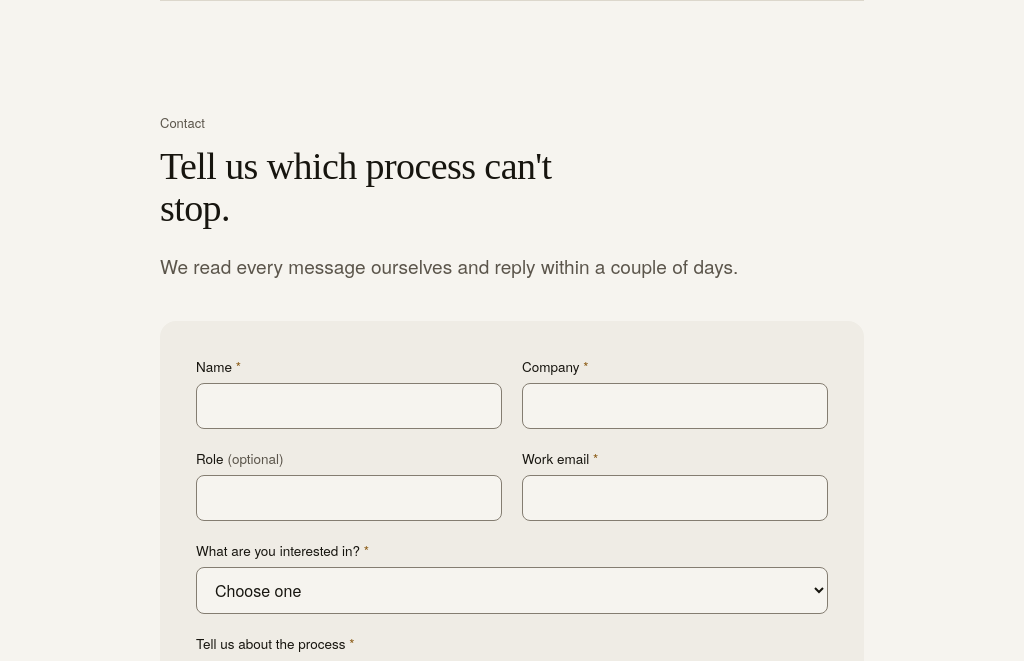
it: Contact form delivery › does NOT claim success when the reply is 200 with success:"false"
Step 1. Type "Ada" into the field labelled "Name *" → (349, 406), box [196,383,502,429]
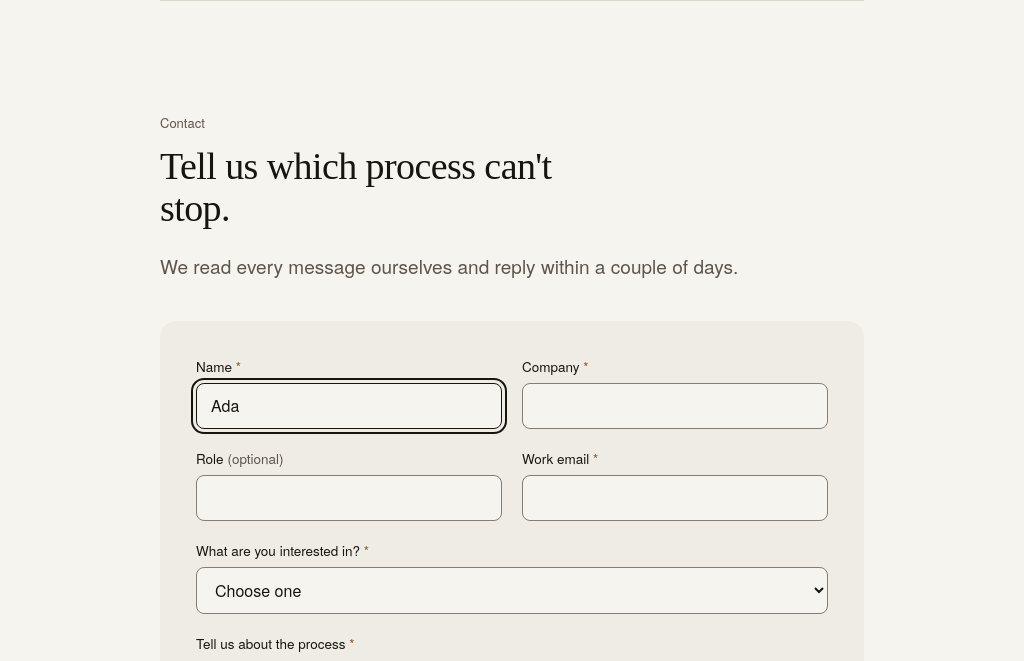
Step 2. Type "Analytical Engines" into the field labelled "Company *" → (675, 406), box [522,383,828,429]
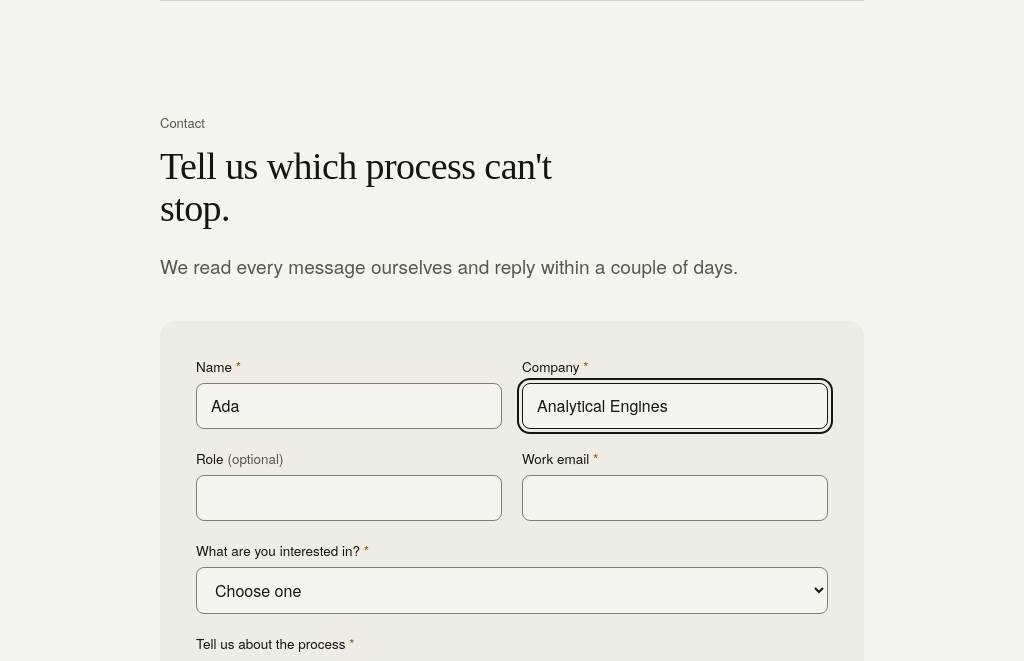
Step 3. Type "ada@example.com" into the field labelled "Work email *" → (675, 498), box [522,475,828,521]
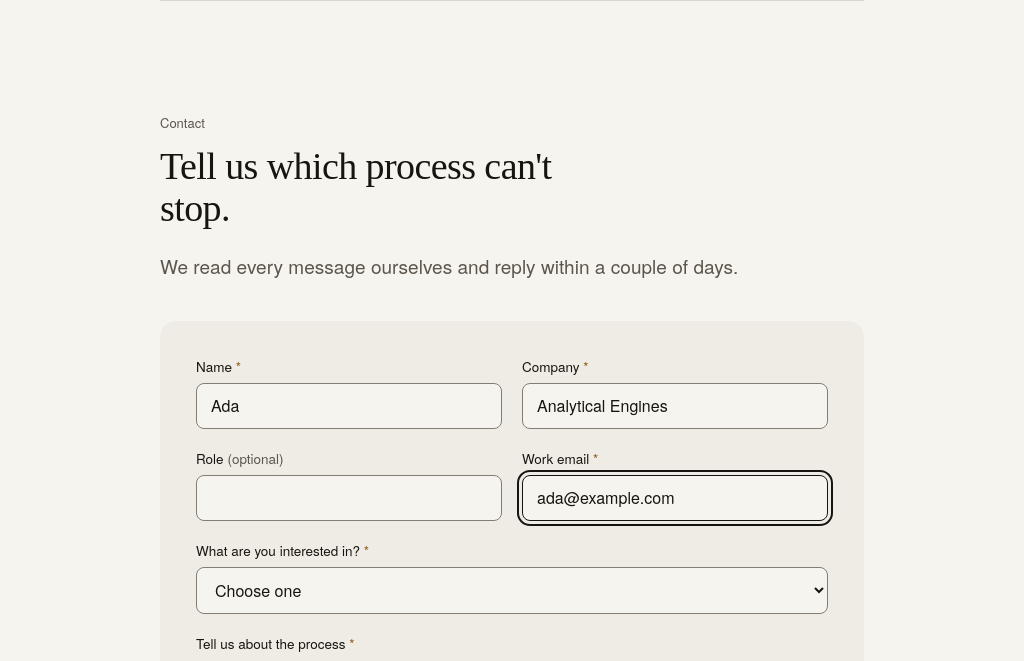
Step 4. Select "Building an automation or AI agent" in the dropdown labelled "What are you interested in?" → (512, 591), box [196,567,828,614]
(page scrolled)
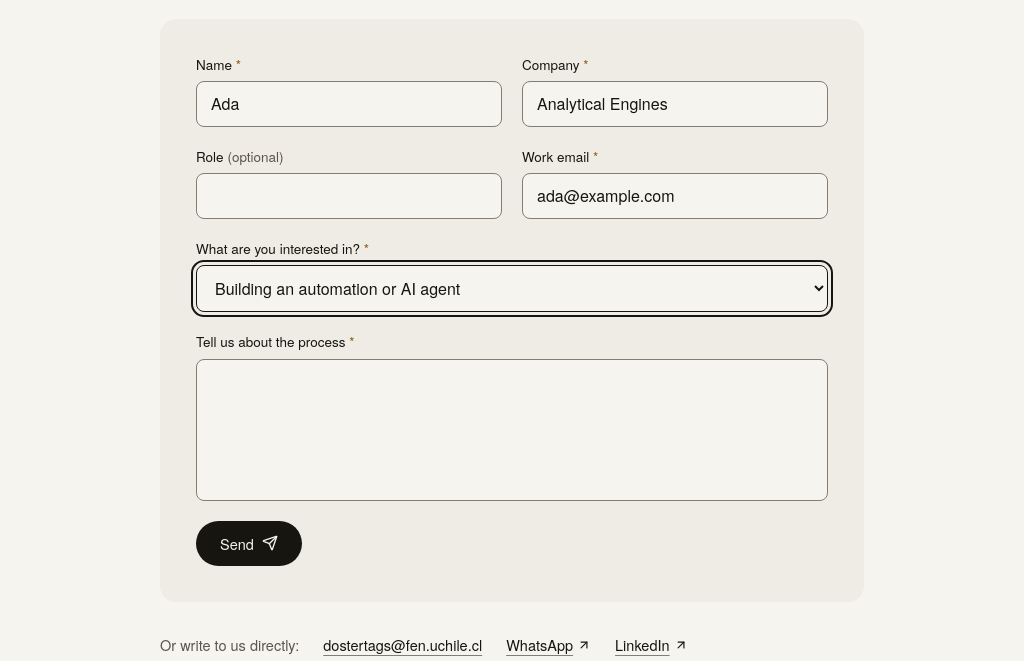
Step 5. Type "A payments integration." into the text box labelled "Tell us about the process *" → (512, 430), box [196,359,828,501]
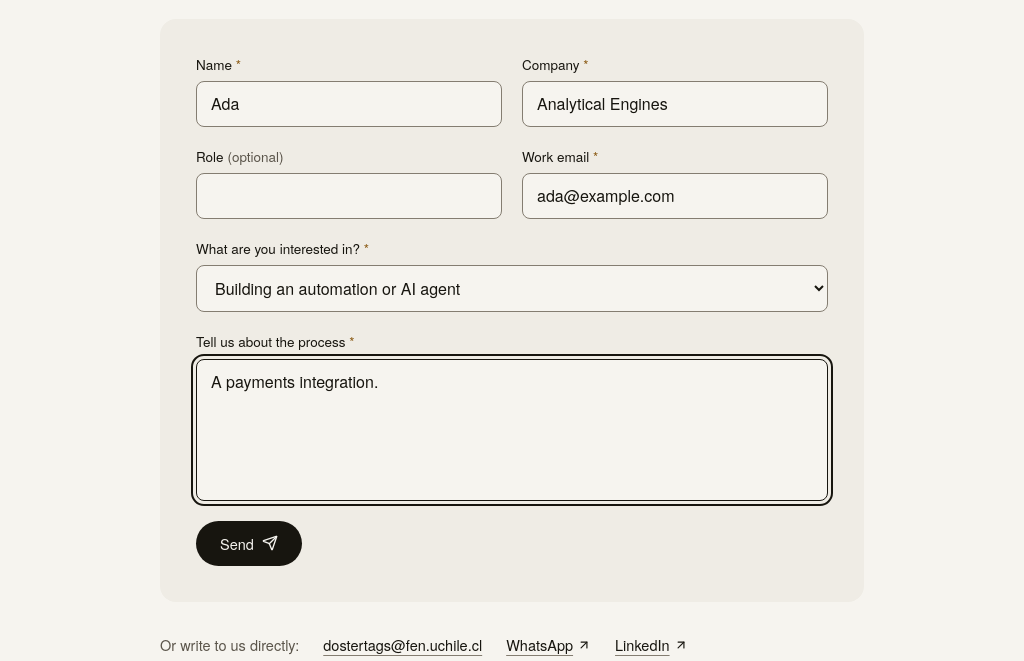
Step 6. Click the button "Send" → (249, 544), box [196,521,302,566]
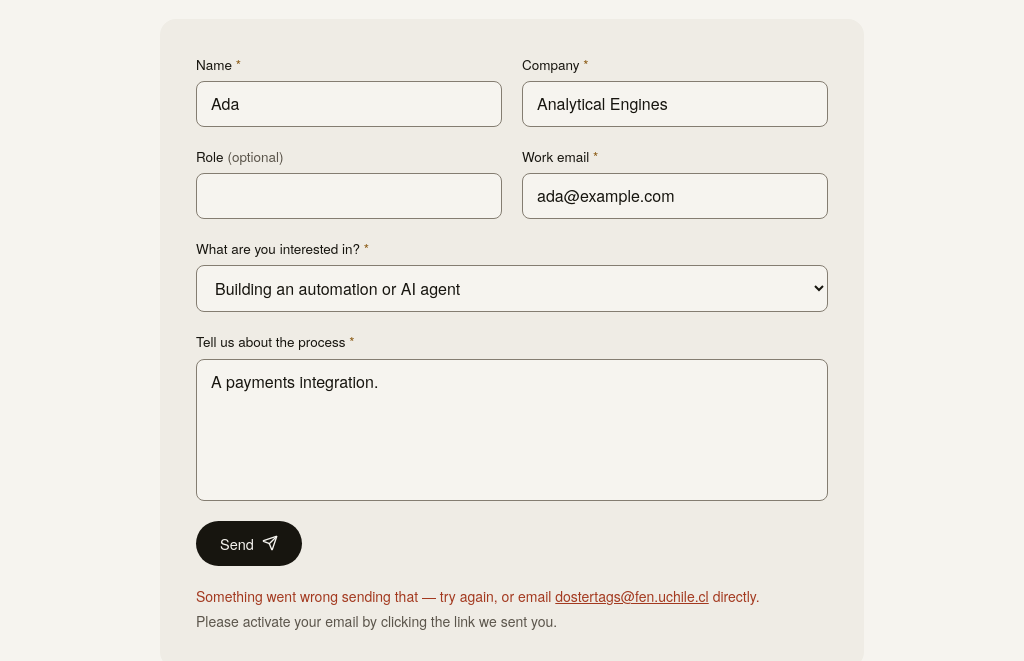
Check: the message shows "Something went wrong sending that — try again, or email", box [196,586,551,606]
Check: the message shows "activate your email", box [196,611,557,631]
